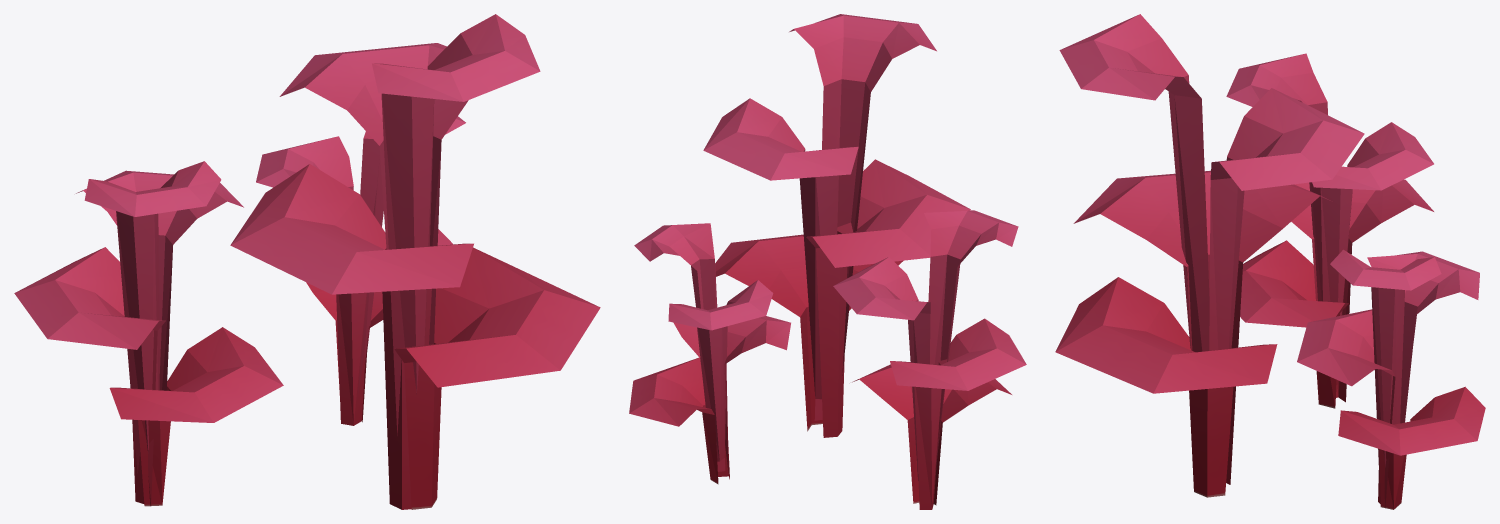
Rendered from VEG0310028.fbx.
3 renders of one model, left to right at view 1: azimuth 30°, elevation 25°; view 2: azimuth 150°, elevation 25°; view 3: azimuth 270°, elevation 25°, orthographic. The views are drawn at different scales.
Parts seen in each view (by area): view 1: smVEG0310028; view 2: smVEG0310028; view 3: smVEG0310028.
Boxes of the visible parts, left/top/right/bottom form: smVEG0310028: left=14, top=14, right=600, bottom=509; smVEG0310028: left=629, top=14, right=1026, bottom=509; smVEG0310028: left=1055, top=14, right=1485, bottom=509.
Size of the model in its own units: 49.19 by 49.19 by 43.68.
1 material, 1 textured.
